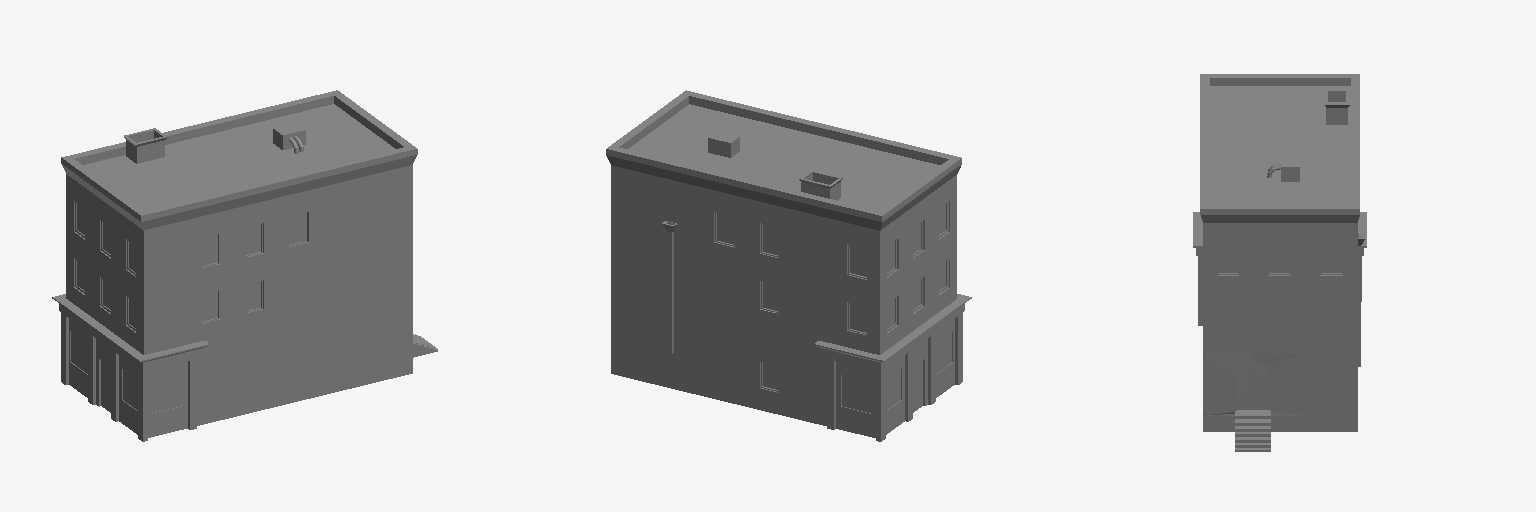
Rendered from building.obj.
3 renders of one model, left to right at view 1: azimuth 30°, elevation 25°; view 2: azimuth 150°, elevation 25°; view 3: azimuth 270°, elevation 25°, orthographic.
Visible parts, largest first — view 1: Cube, Cube_001; view 2: Cube, Cube_001; view 3: Cube, Cube_001.
Boxes of the visible parts, x1=… form: Cube: x1=52, y1=90, x2=437, y2=441; Cube_001: x1=71, y1=203, x2=306, y2=413; Cube: x1=606, y1=90, x2=971, y2=441; Cube_001: x1=717, y1=203, x2=951, y2=413; Cube: x1=1193, y1=74, x2=1366, y2=451; Cube_001: x1=1219, y1=245, x2=1341, y2=328.
Bounding box in the file's own units: 7.65 × 5.42 × 3.62.